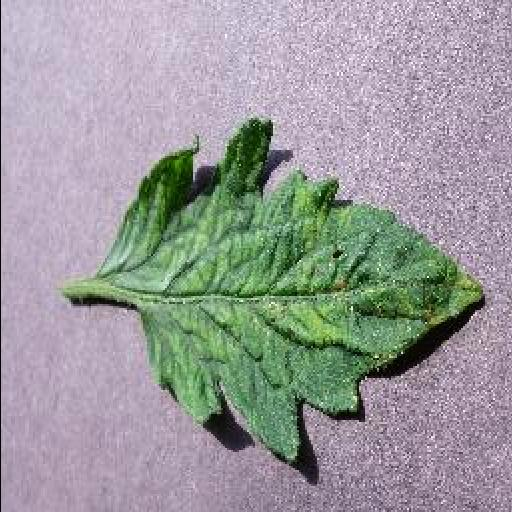disease_tomato: (98, 116, 488, 462)
